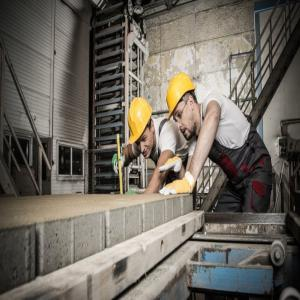yellow: (166, 71, 199, 140), (127, 96, 156, 158)
